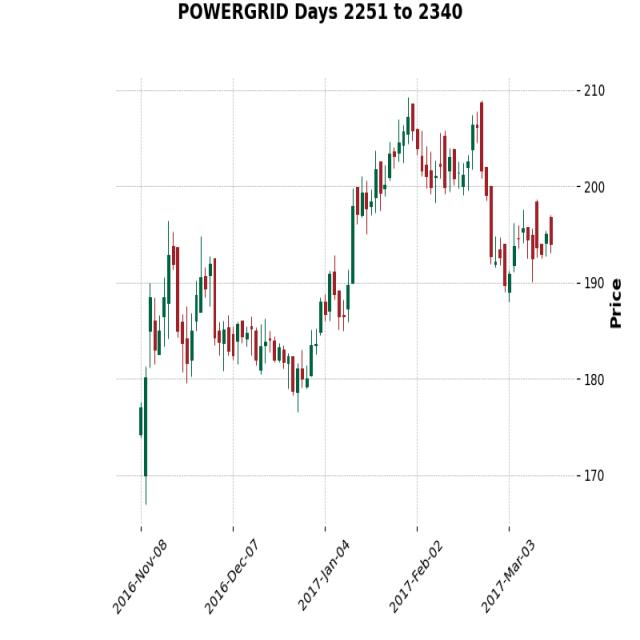Double Top: (93, 215, 263, 357)
